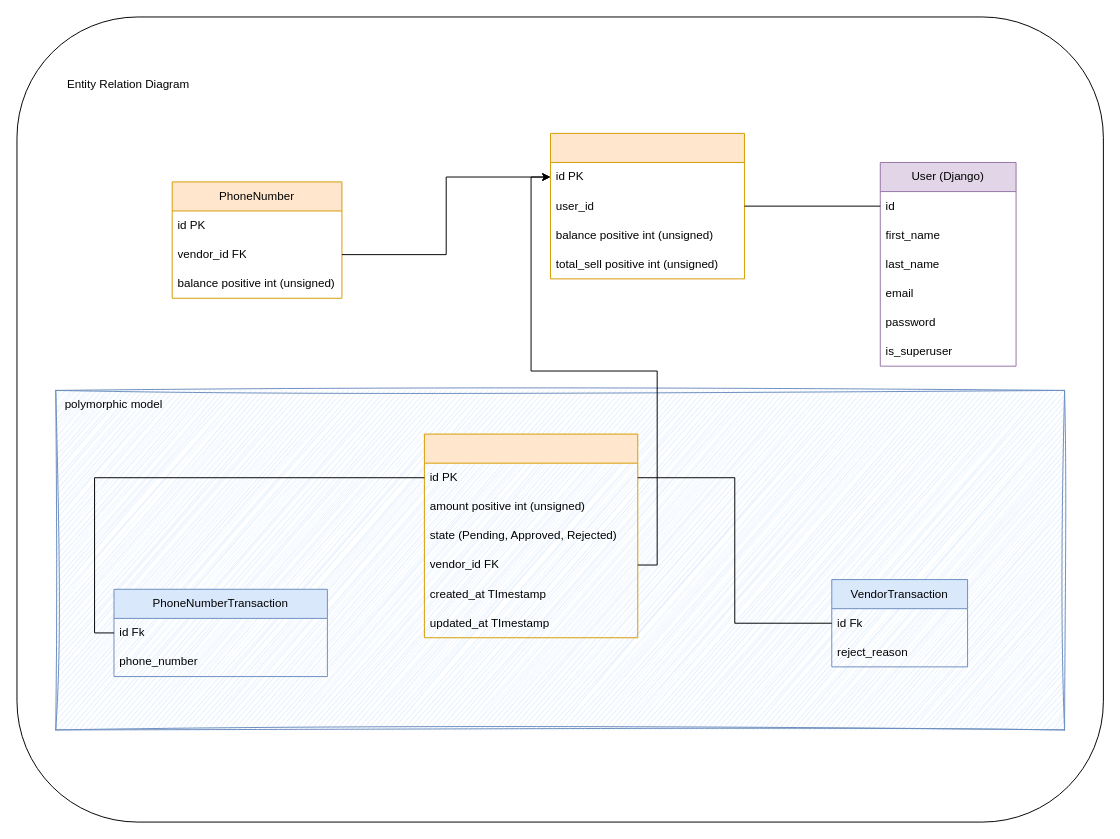
Some shapes in this 1120 by 839 pixel diagram are drawn without their labels. Each missing label, with the box of its shape:
Transaction: (423, 433, 638, 638)
Vendor: (550, 132, 744, 279)
